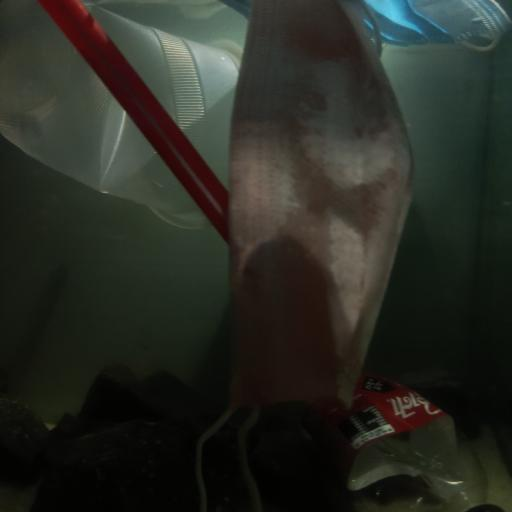mask: (219, 0, 409, 422), (330, 0, 510, 52)
plastic_bottle: (310, 367, 492, 512)
plastic_cup: (0, 0, 245, 228)
plastic_straw: (48, 0, 226, 226)
